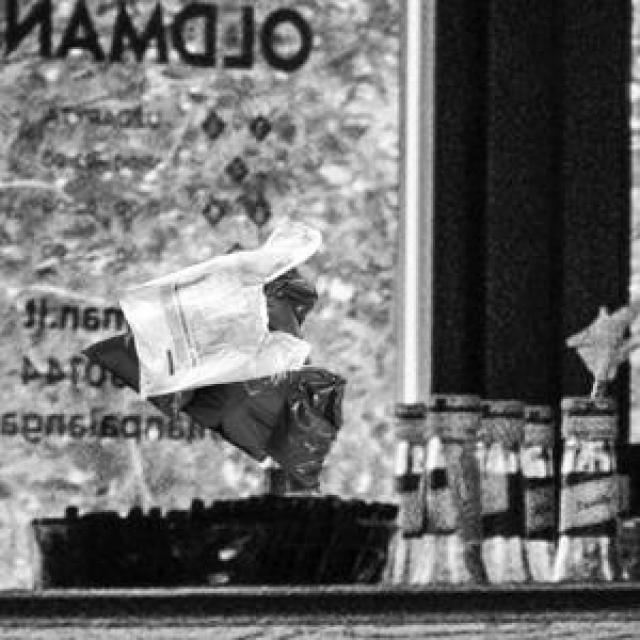miscellaneous trash: (79, 262, 341, 489)
